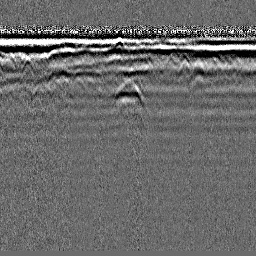cavity: (108, 77, 148, 112)
